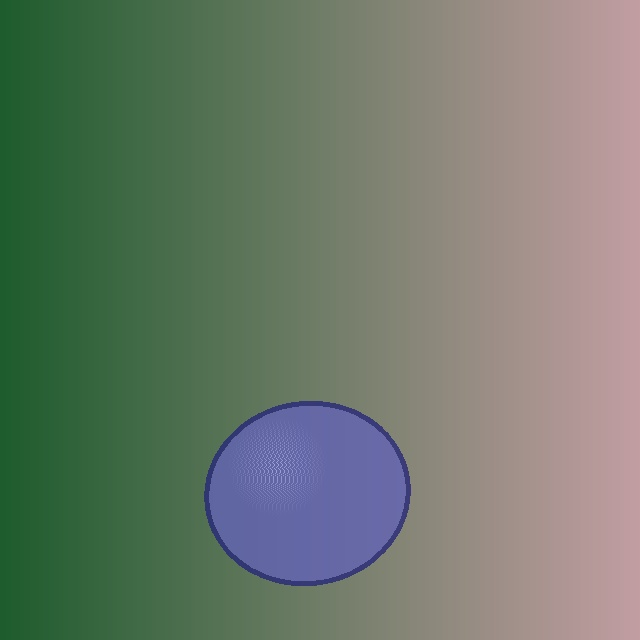lens: (207, 403, 407, 583)
